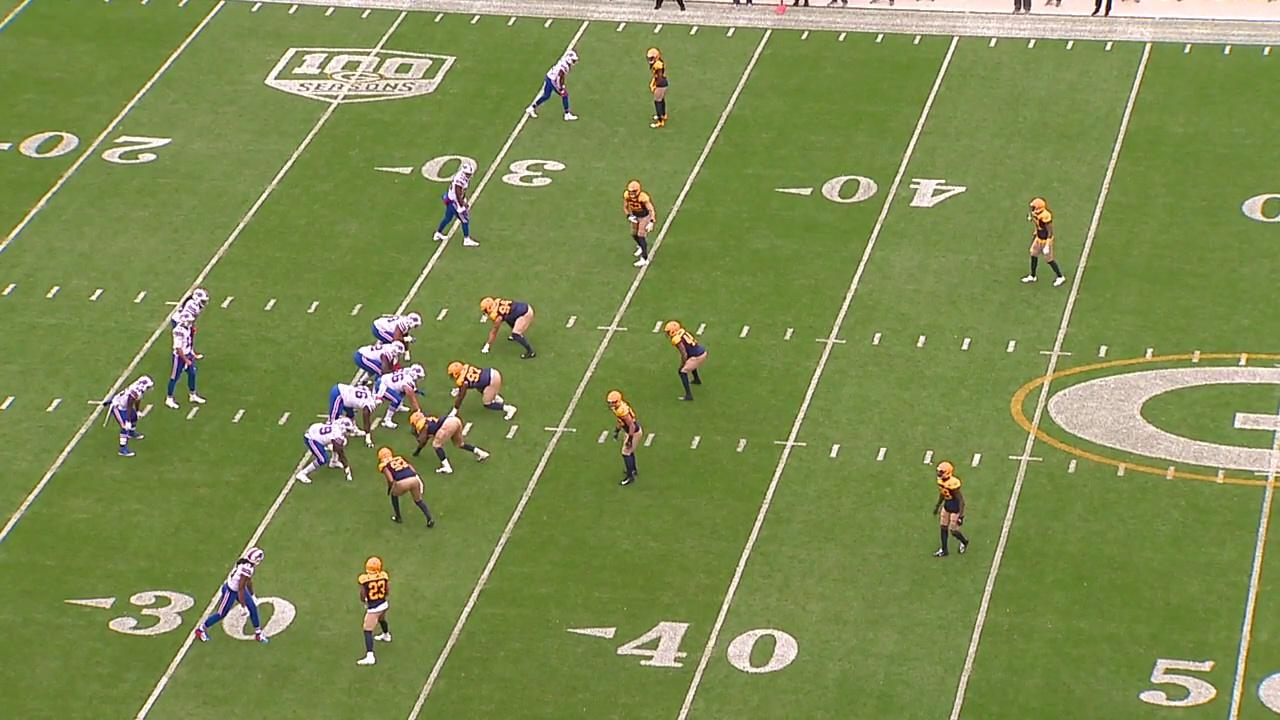defense: (408, 410, 493, 476), (376, 445, 436, 530), (1018, 195, 1068, 290), (354, 553, 394, 668), (445, 359, 518, 421), (929, 460, 970, 559), (662, 319, 710, 403), (477, 296, 538, 361), (605, 388, 644, 488), (621, 179, 659, 269), (644, 46, 672, 132)
oline: (294, 414, 357, 487), (327, 379, 384, 450), (374, 361, 428, 431), (370, 310, 425, 371), (353, 339, 406, 386)
qb: (163, 310, 209, 410)
skill: (195, 546, 272, 645), (102, 372, 156, 460), (431, 160, 481, 249), (523, 49, 582, 123), (168, 285, 213, 372)
